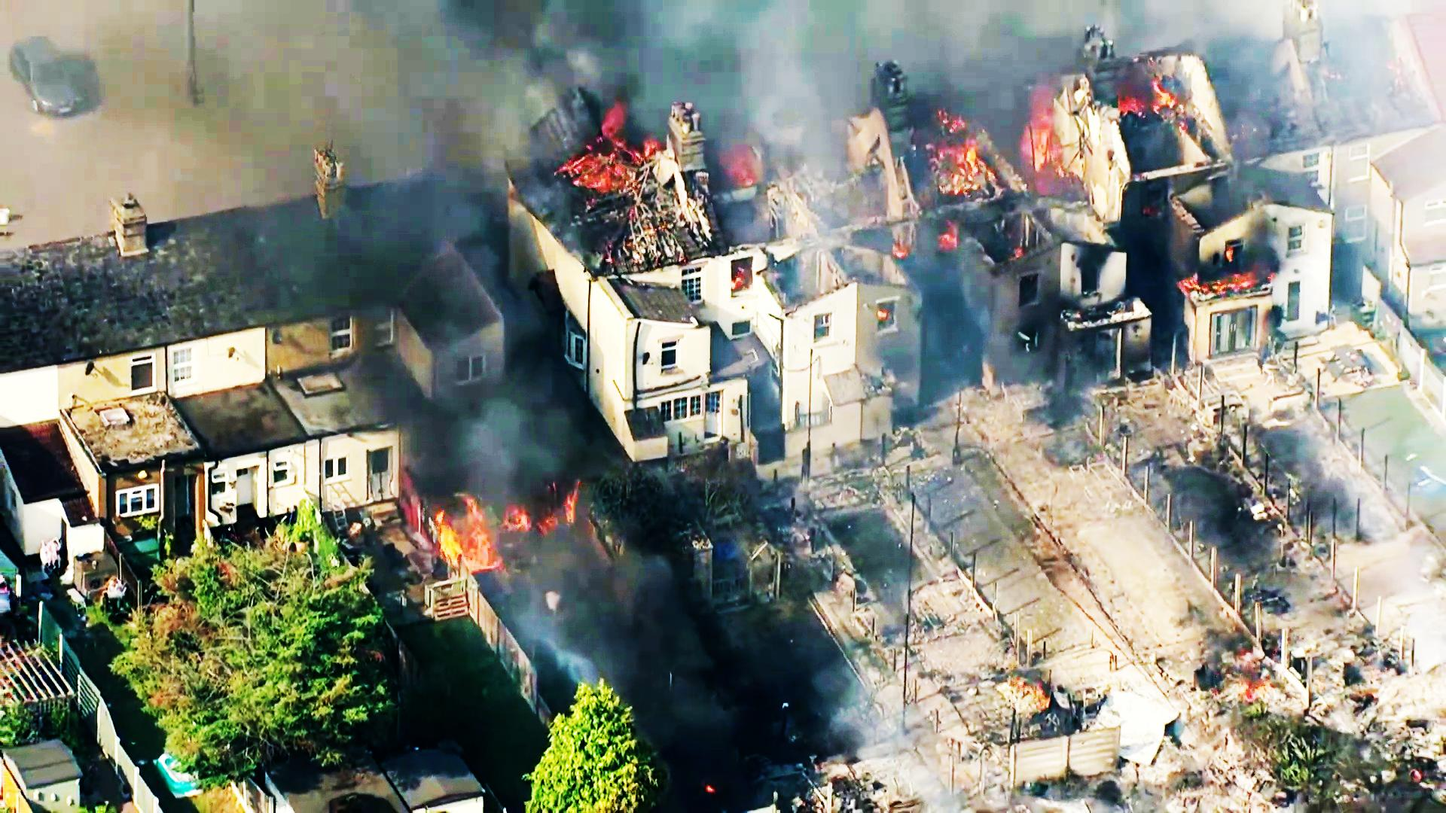fire: (552, 85, 671, 208), (992, 79, 1096, 192), (402, 473, 507, 566), (930, 121, 1005, 204)
